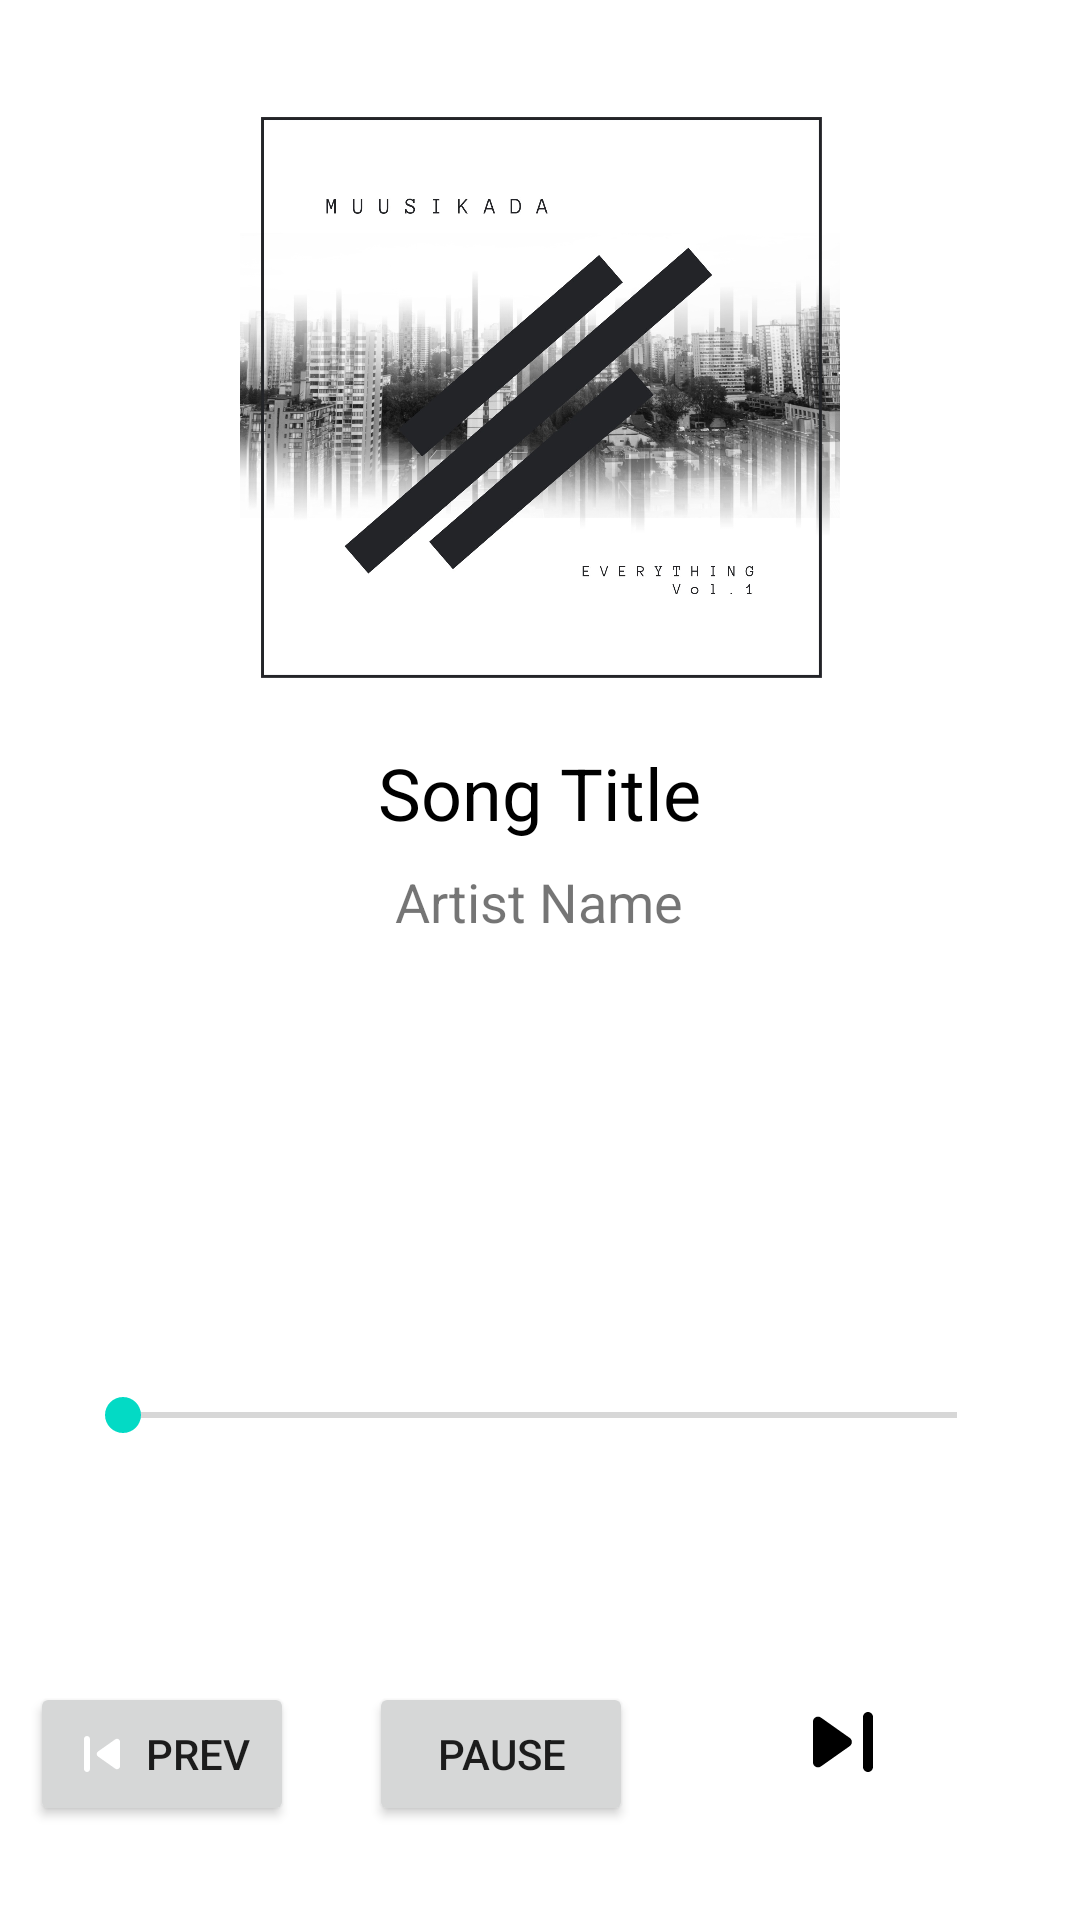

Screen size 1080w x 1920h. Icon name, then its box in pixels as (x1, y1, x2, y2):
skip next: (813, 1712, 873, 1772)
